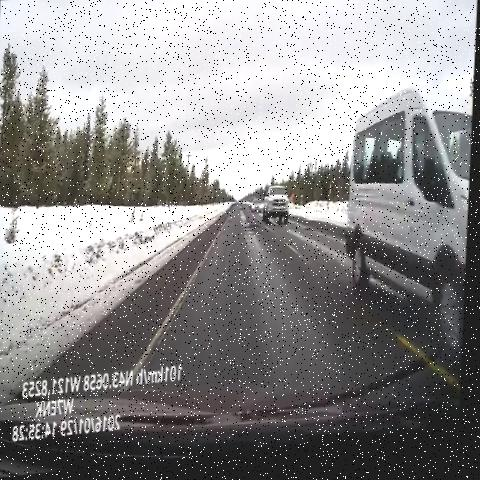pothole: (243, 218, 273, 254), (226, 216, 238, 239), (235, 205, 250, 223)
